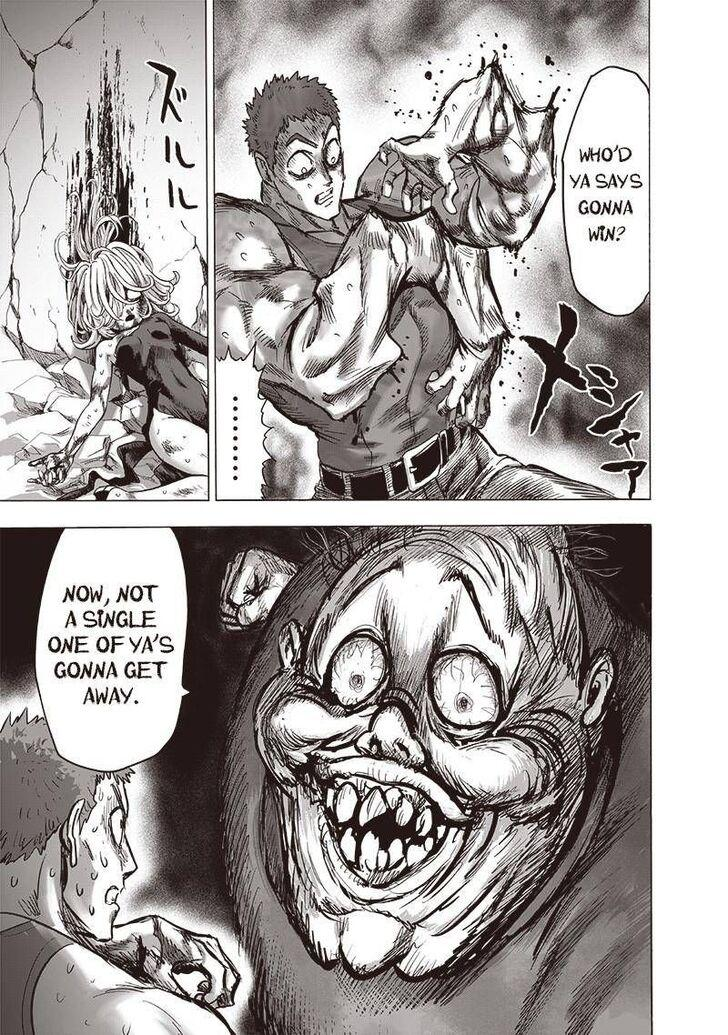Bubble: (33, 526, 191, 773), (561, 65, 652, 317), (213, 339, 276, 502)
